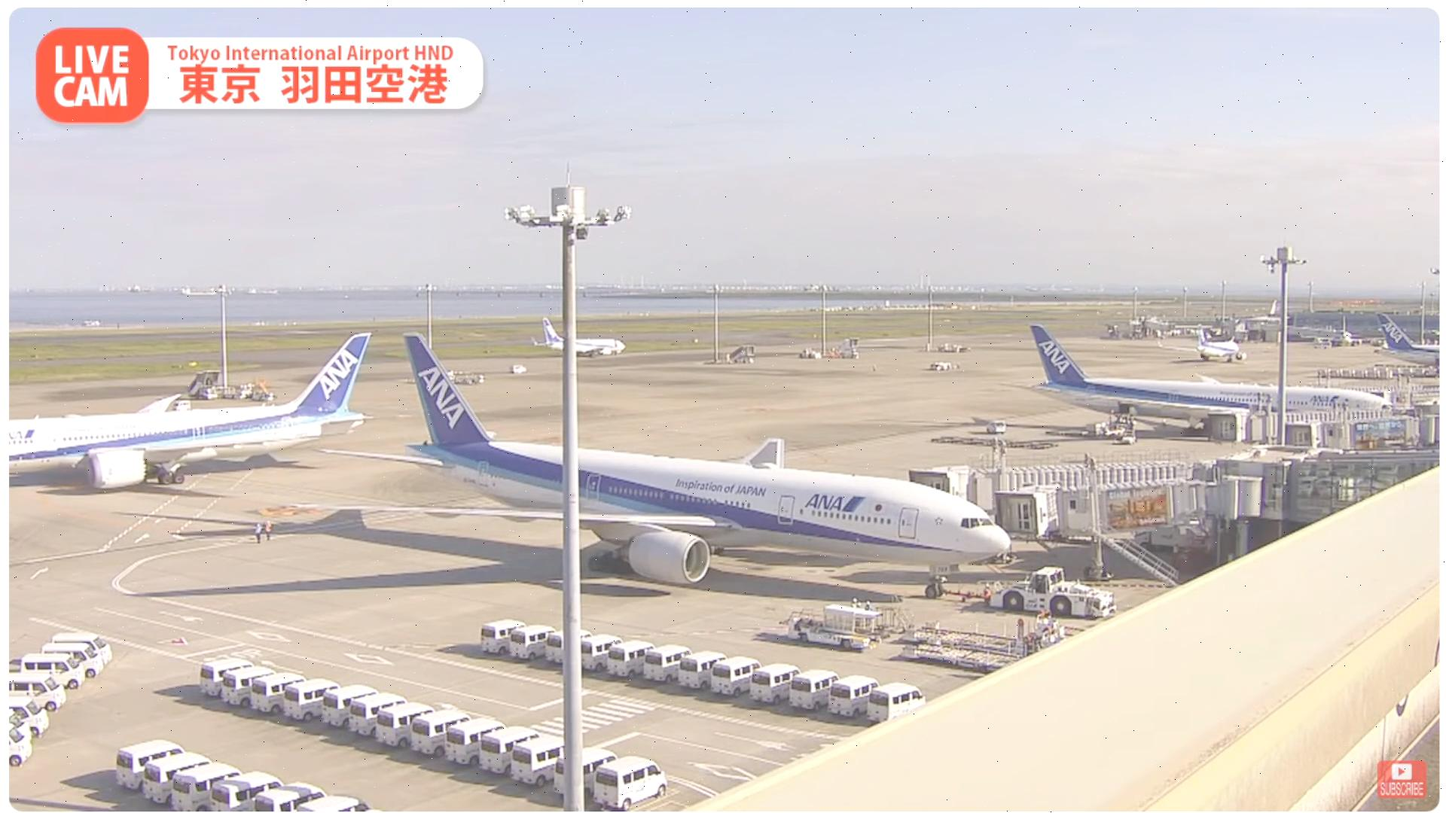APS: (997, 572, 1110, 616)
Aerobridge: (956, 480, 1243, 535), (885, 461, 1213, 481)
Airplane: (290, 330, 1014, 584)
JCPL: (905, 621, 1086, 670)
Skyloader: (759, 596, 903, 653)
Window: (1270, 448, 1442, 536)
